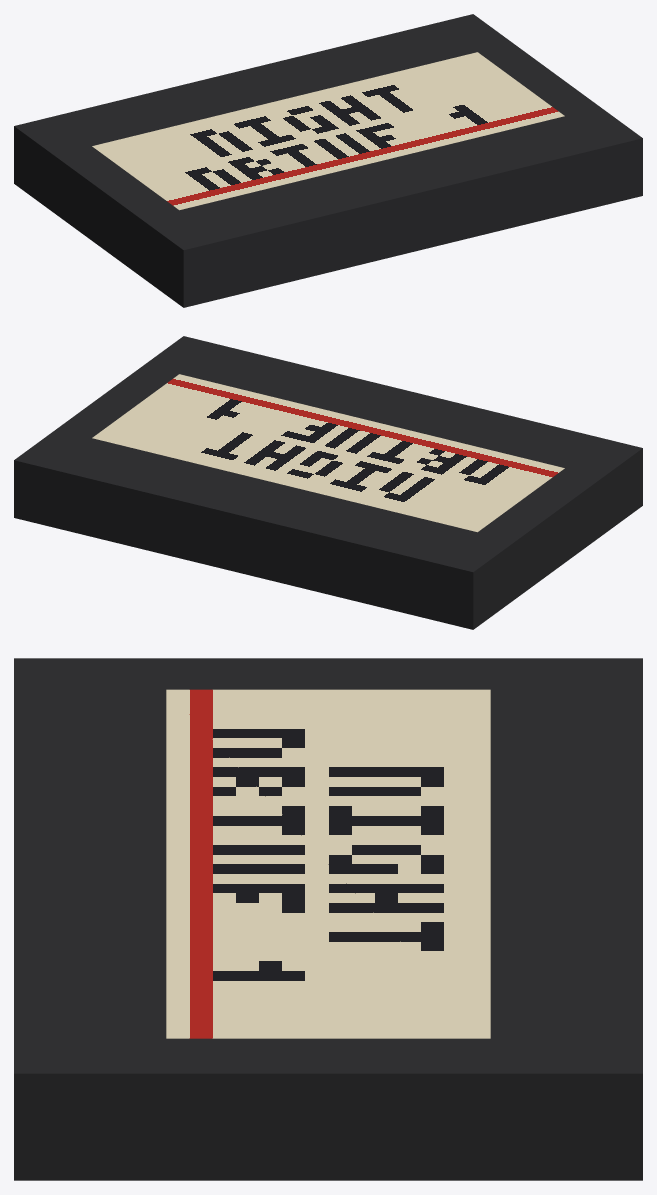
The model's file is tape_1.glb.
3 renders of one model, top to bottom at view 1: azimuth 30°, elevation 25°; view 2: azimuth 150°, elevation 25°; view 3: azimuth 270°, elevation 25°, orthographic. The views are drawn at different scales.
Visible parts, largest first — view 1: tape_1; view 2: tape_1; view 3: tape_1.
Boxes of the visible parts, x1,y1,x2,y2 form: tape_1: [14, 14, 642, 307]; tape_1: [14, 336, 642, 629]; tape_1: [14, 658, 642, 1180].
Bounding box in the file's own units: 0.1 × 0.0122 × 0.064.
Materials: 2 (1 with a texture image).
